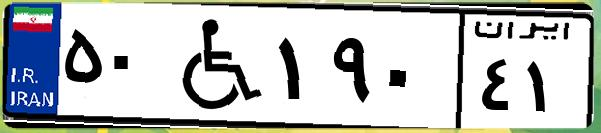0: (385, 28, 445, 110), (110, 28, 158, 98)
1: (270, 28, 330, 110), (525, 38, 570, 115)
4: (475, 38, 525, 113)
5: (57, 26, 110, 100)
9: (330, 28, 385, 110)
ژ (معلولین و جانبازان): (158, 12, 270, 120)
